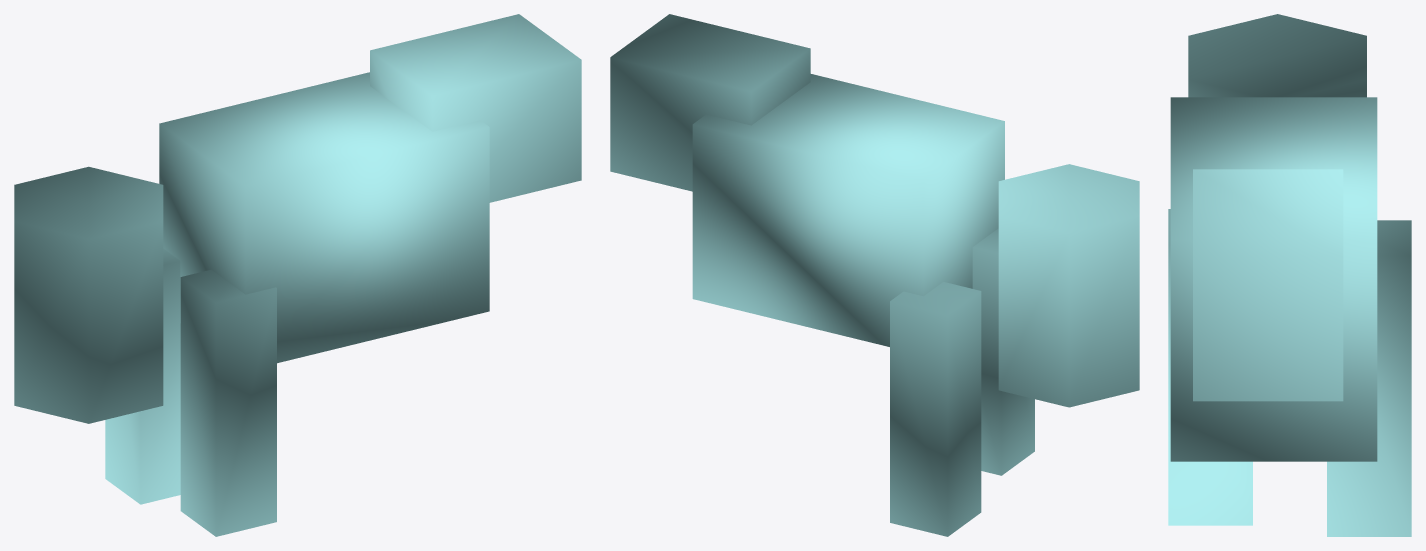
The model's file is ps2_jrpg_dragon_wyrm_wyvern_enemy.obj.
3 renders of one model, left to right at view 1: azimuth 30°, elevation 25°; view 2: azimuth 150°, elevation 25°; view 3: azimuth 270°, elevation 25°, orthographic. The views are drawn at different scales.
Bounding box in the file's own units: 1.57 × 1.1 × 0.5178.
